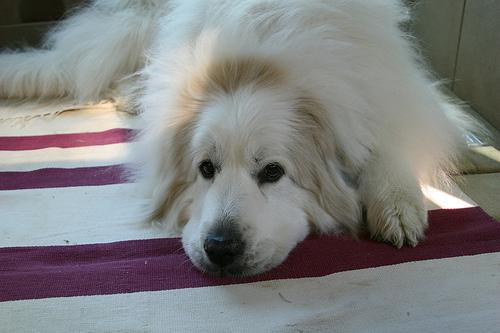Great_Pyrenees: (0, 0, 479, 278)
